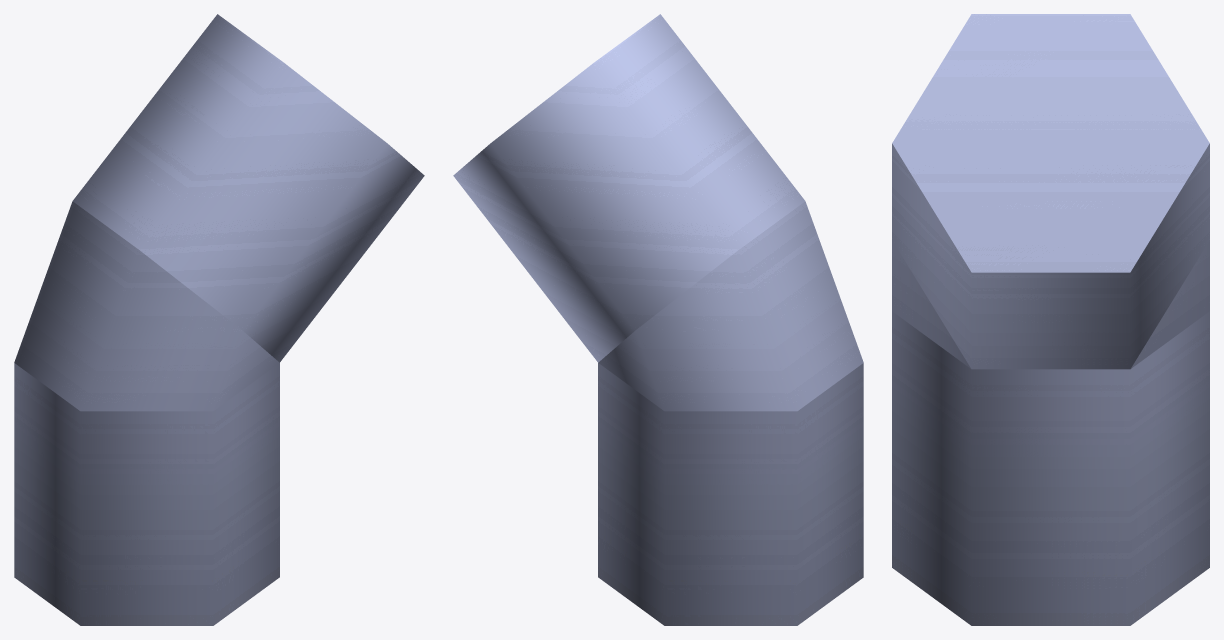
File: pipe-bend-diagonal.glb
The picture shows the model from 3 angles, left to right: view 1: azimuth 30°, elevation 25°; view 2: azimuth 150°, elevation 25°; view 3: azimuth 270°, elevation 25°; orthographic projection. The views are drawn at different scales.
Parts seen in each view (by area): view 1: pipe-bend-diagonal; view 2: pipe-bend-diagonal; view 3: pipe-bend-diagonal.
Part boxes in pixels (<box>): pipe-bend-diagonal: <box>14,14,424,625</box>; pipe-bend-diagonal: <box>453,14,863,625</box>; pipe-bend-diagonal: <box>892,14,1209,625</box>.
Size of the model in its own units: 0.4257 by 0.6071 by 0.2845.
1 material, 1 textured.
